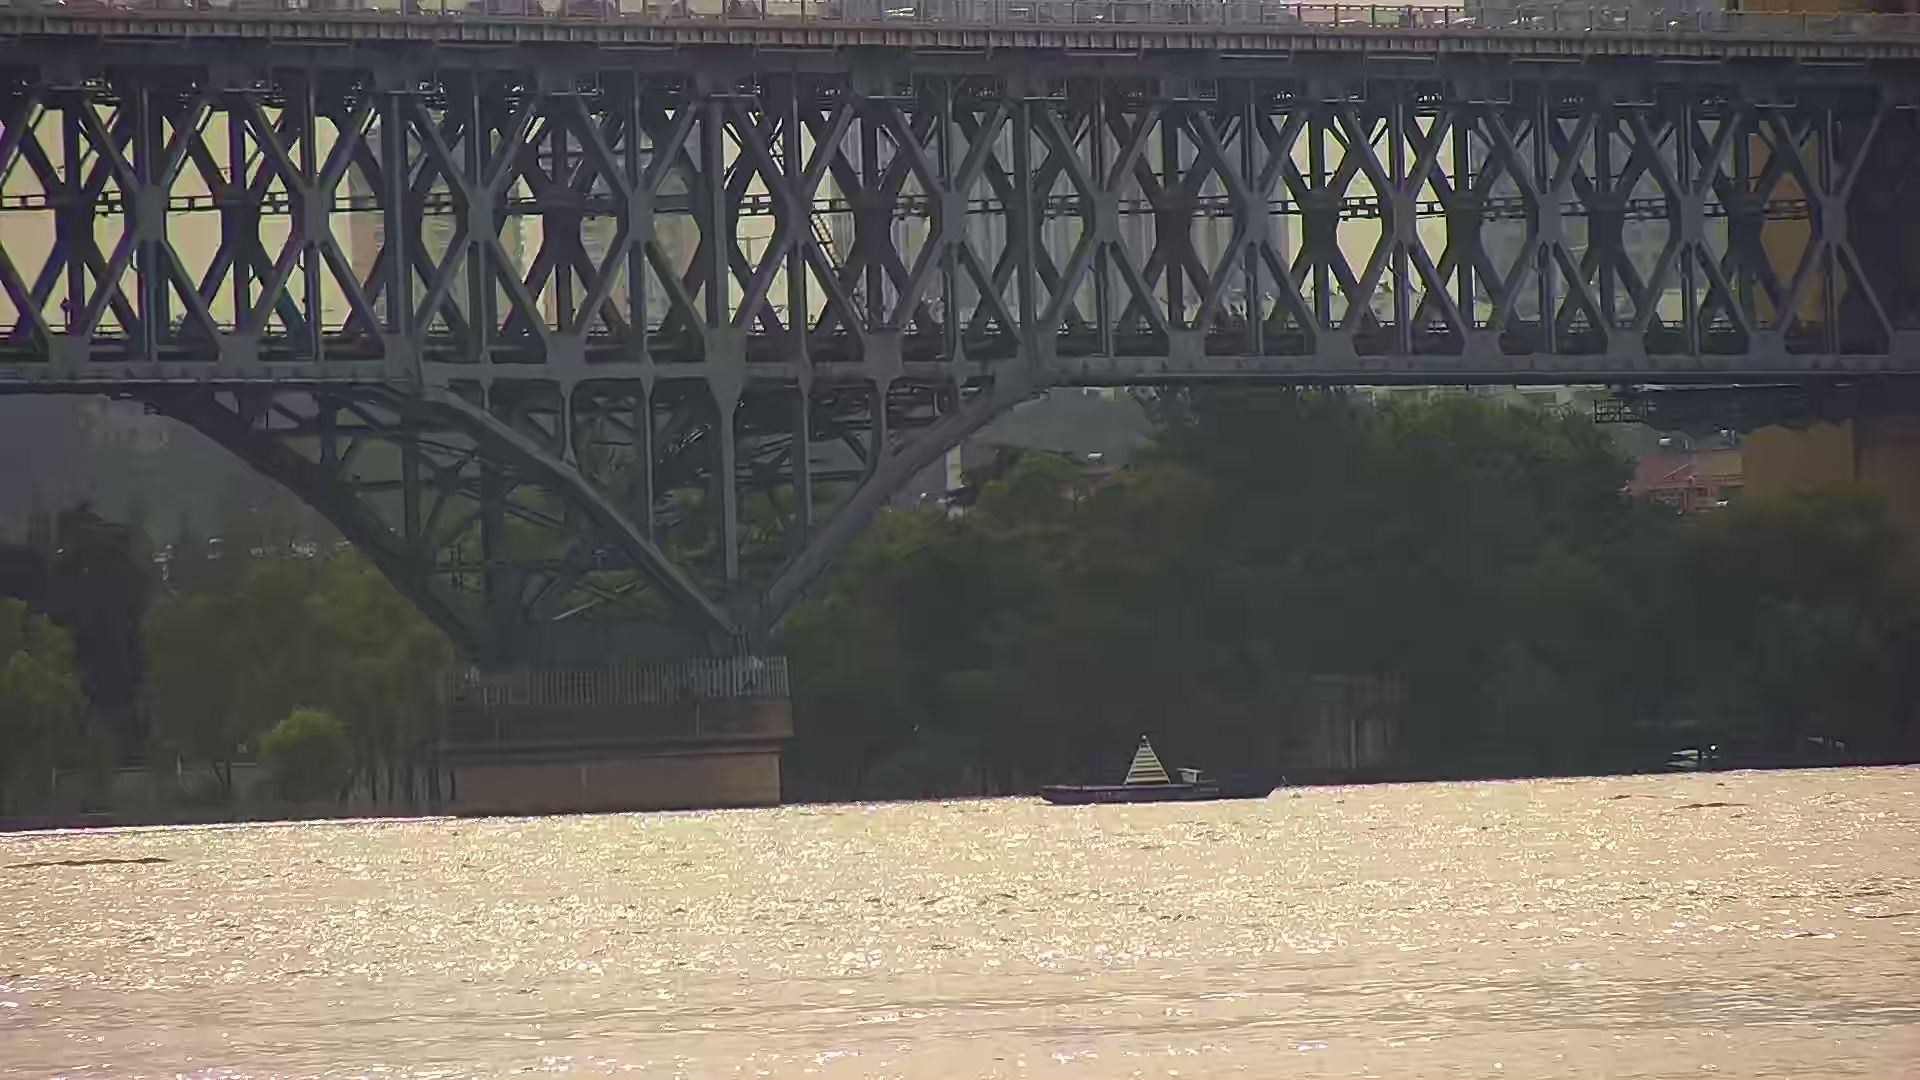boat: (1015, 717, 1284, 815)
bridge: (1, 1, 1912, 840)
